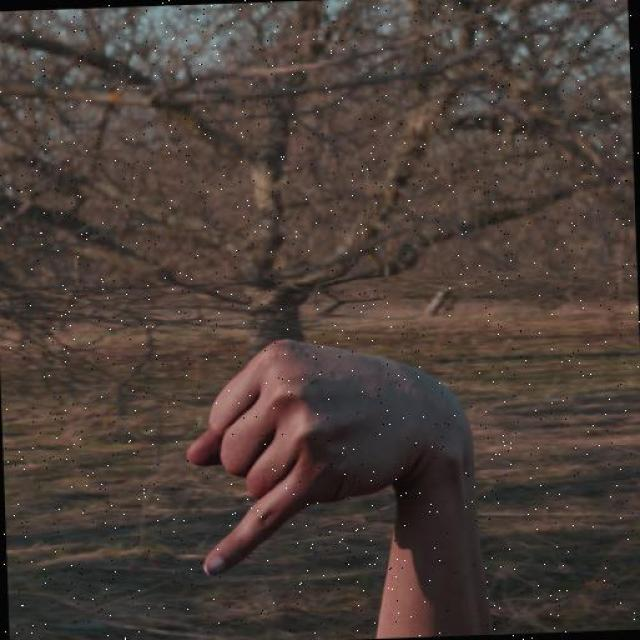J: (180, 330, 476, 578)
